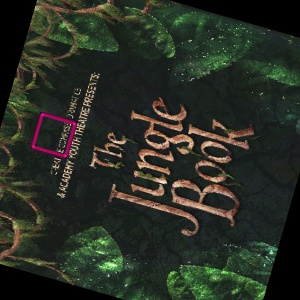square: (29, 111, 78, 159)
